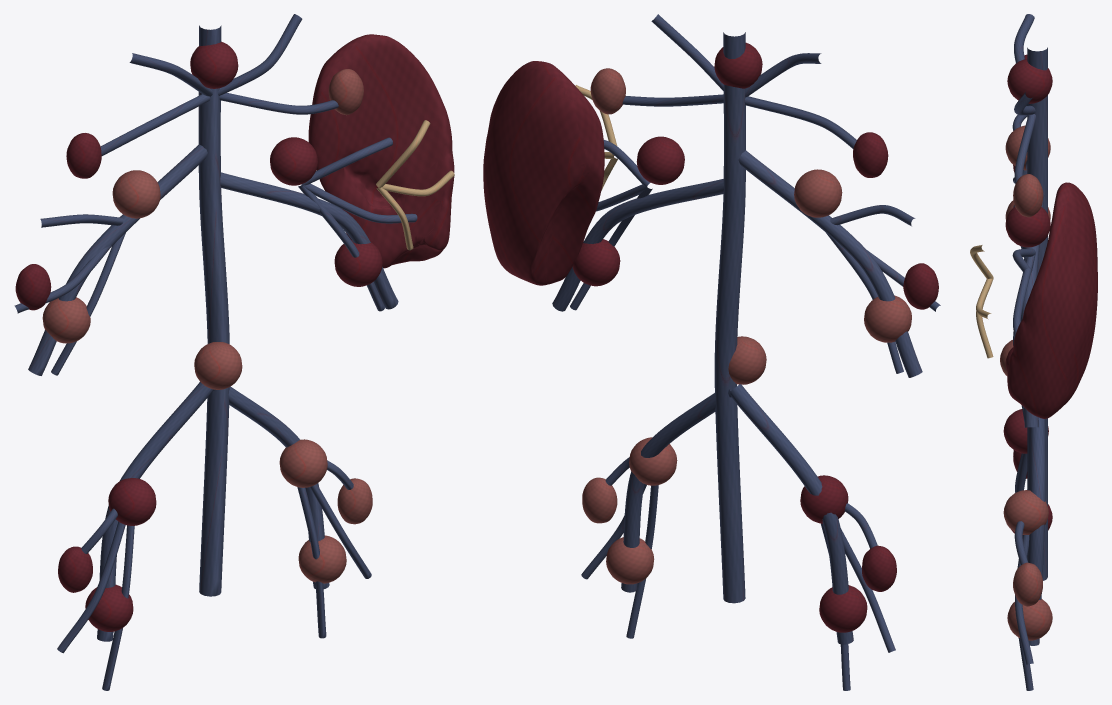
File: lymphatic.128717d3.glb
3 renders of one model, left to right at view 1: azimuth 30°, elevation 25°; view 2: azimuth 150°, elevation 25°; view 3: azimuth 270°, elevation 25°, orthographic. The views are drawn at different scales.
Parts seen in each view (by area): view 1: Spleen, procedural-lymphatic-surface-1, procedural-lymphatic-surface-3, procedural-lymphatic-surface-4, procedural-lymphatic-surface-2, procedural-lymphatic-surface-5, procedural-lymphatic-surface-23, procedural-lymphatic-surface-24, procedural-lymphatic-surface-27, procedural-lymphatic-surface-29, procedural-lymphatic-surface-28, procedural-lymphatic-surface-22 (+23 smaller); view 2: Spleen, procedural-lymphatic-surface-1, procedural-lymphatic-surface-4, procedural-lymphatic-surface-2, procedural-lymphatic-surface-3, procedural-lymphatic-surface-5, procedural-lymphatic-surface-23, procedural-lymphatic-surface-24, procedural-lymphatic-surface-30, procedural-lymphatic-surface-25, procedural-lymphatic-surface-31, procedural-lymphatic-surface-26 (+17 smaller); view 3: Spleen, procedural-lymphatic-surface-1, procedural-lymphatic-surface-5, procedural-lymphatic-surface-29, procedural-lymphatic-surface-22, procedural-lymphatic-surface-24, procedural-lymphatic-surface-31, procedural-lymphatic-surface-36, procedural-lymphatic-surface-33, procedural-lymphatic-surface-28, procedural-lymphatic-surface-20, procedural-lymphatic-surface-3 (+13 smaller).
Part boxes in pixels (x1,y1,x2,y2): Spleen: (308,34,454,268); procedural-lymphatic-surface-1: (198,25,229,596); procedural-lymphatic-surface-3: (220,172,398,309); procedural-lymphatic-surface-4: (97,382,213,641); procedural-lymphatic-surface-2: (28,144,207,375); procedural-lymphatic-surface-5: (213,386,329,588); procedural-lymphatic-surface-23: (112,170,160,218); procedural-lymphatic-surface-24: (270,137,317,185); procedural-lymphatic-surface-27: (194,342,242,389); procedural-lymphatic-surface-29: (279,439,327,487); procedural-lymphatic-surface-28: (108,478,156,525); procedural-lymphatic-surface-22: (190,41,238,88); Spleen: (483,61,604,285); procedural-lymphatic-surface-1: (714,32,745,603); procedural-lymphatic-surface-4: (730,384,853,644); procedural-lymphatic-surface-2: (738,150,922,377); procedural-lymphatic-surface-3: (552,179,723,311); procedural-lymphatic-surface-5: (621,389,731,592); procedural-lymphatic-surface-23: (794,169,842,217); procedural-lymphatic-surface-24: (636,136,684,184); procedural-lymphatic-surface-30: (819,585,867,632); procedural-lymphatic-surface-25: (864,295,911,342); procedural-lymphatic-surface-31: (606,537,654,584); procedural-lymphatic-surface-26: (572,239,620,286); Spleen: (1007,182,1097,418); procedural-lymphatic-surface-1: (1027,47,1047,580); procedural-lymphatic-surface-5: (1028,417,1045,645); procedural-lymphatic-surface-29: (1003,490,1048,534); procedural-lymphatic-surface-22: (1007,59,1052,103); procedural-lymphatic-surface-24: (1005,207,1050,247); procedural-lymphatic-surface-31: (1007,599,1052,640); procedural-lymphatic-surface-36: (1013,562,1042,606); procedural-lymphatic-surface-33: (1013,174,1043,217); procedural-lymphatic-surface-28: (1003,409,1048,453); procedural-lymphatic-surface-20: (1015,535,1033,664); procedural-lymphatic-surface-3: (1021,193,1044,427).
Size of the model in its own units: 2.53 by 3.47 by 0.6781.
5 materials, 5 textured.
